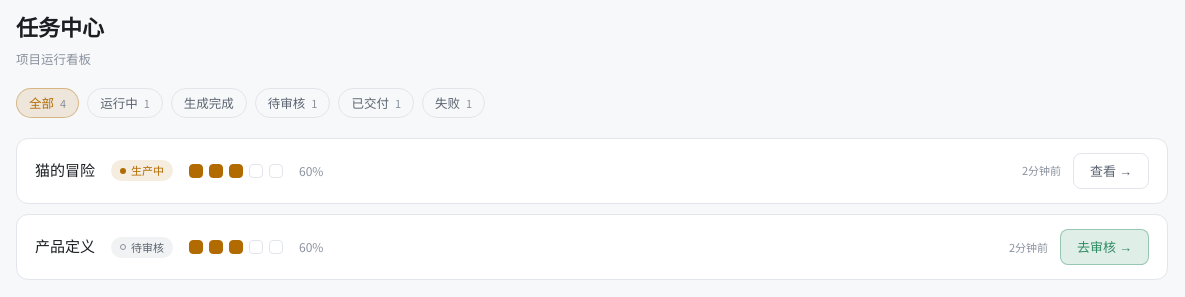
it: TaskCenterView › filters rows by the selected tab
The width and height of the screenshot is (1185, 297).
Expected: the text "猫的冒险" is shown, [35, 159, 95, 183]
Expected: the text "产品定义" is shown, [35, 235, 95, 259]
// 切到待审核：只剩 review 行。
Click the tab "待审核 1" at (293, 103), box [255, 88, 330, 118]
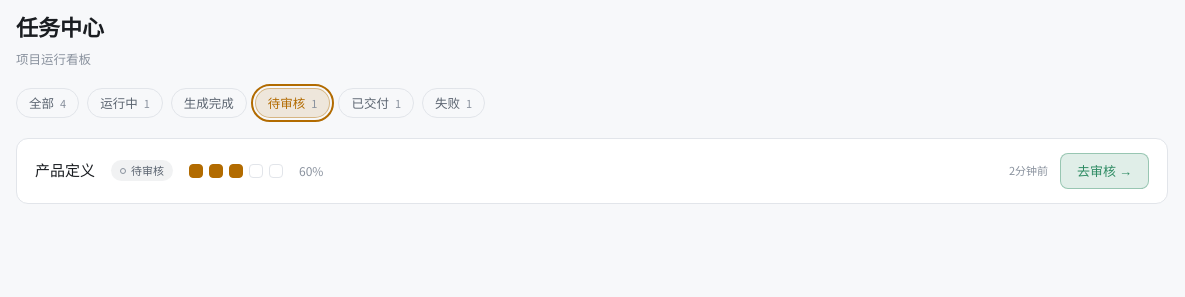
Expected: the text "产品定义" is shown, [35, 159, 95, 183]
Expected: the text "猫的冒险" is gone
